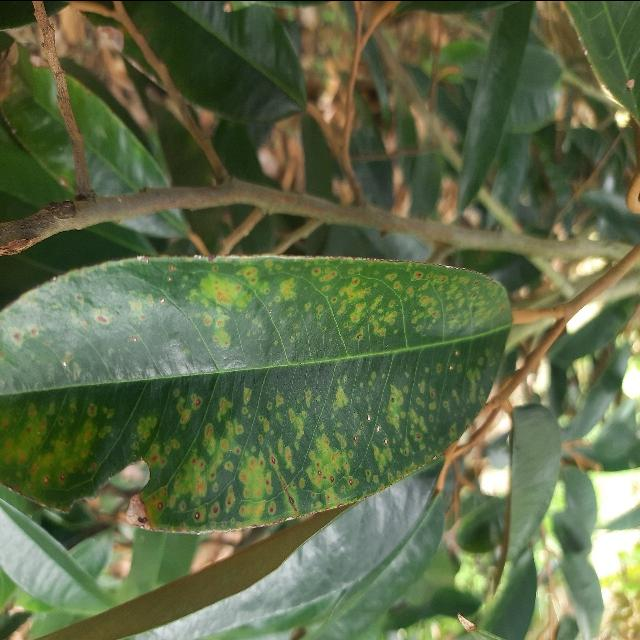Leaf Spot: (0, 247, 531, 542)
